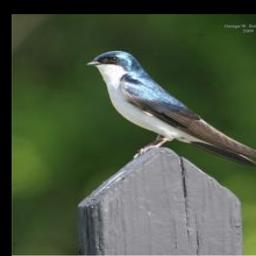Swallow: (85, 50, 256, 168)
